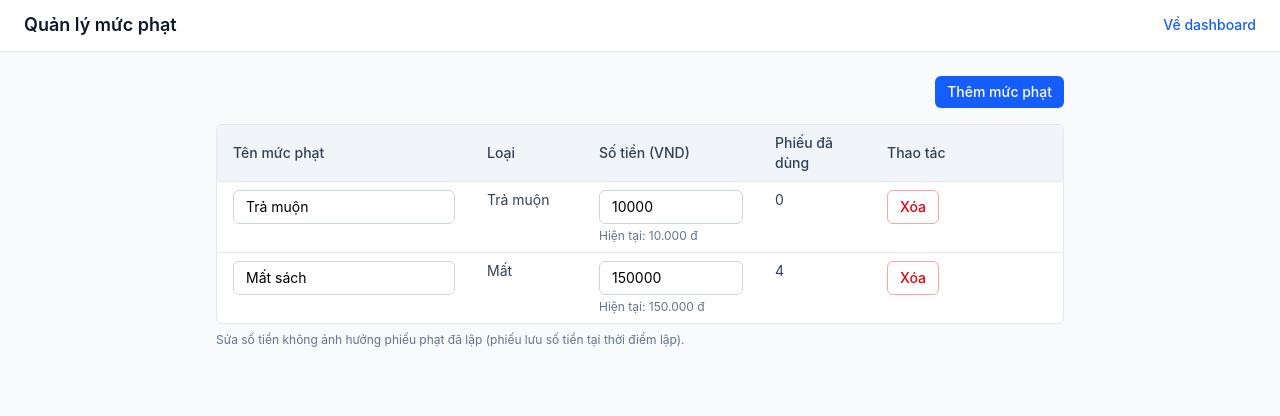
Test: FineTiersPage (2.5.1) › xóa: 404 (đã bị xóa nơi khác) → báo lỗi
The image size is (1280, 416).
What coordinates should you click on to do the following:
click the button with aria-label "Xóa Trả muộn"
I would click on:
 (913, 207)
Its box is [887,190,939,224].
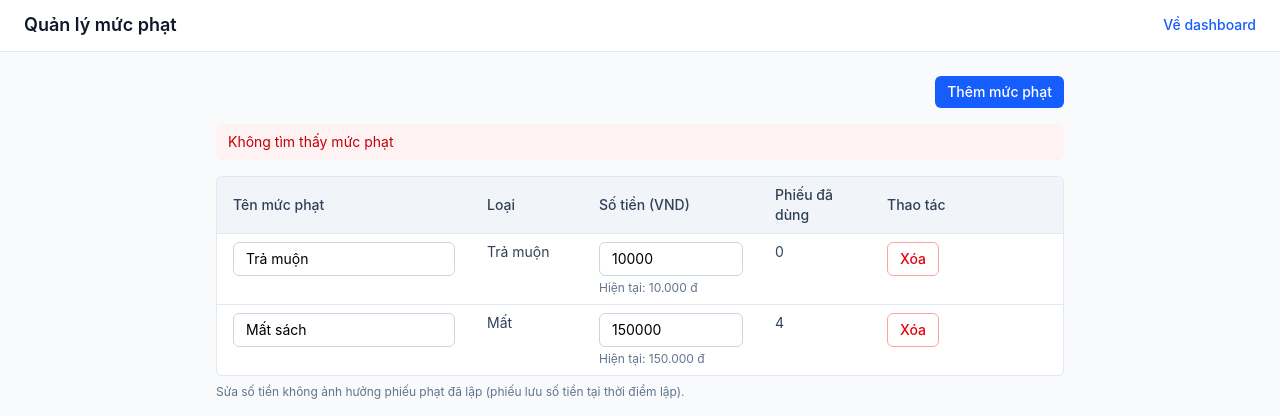
Expected: the message reads "Không tìm thấy mức phạt", [228,133,394,150]
